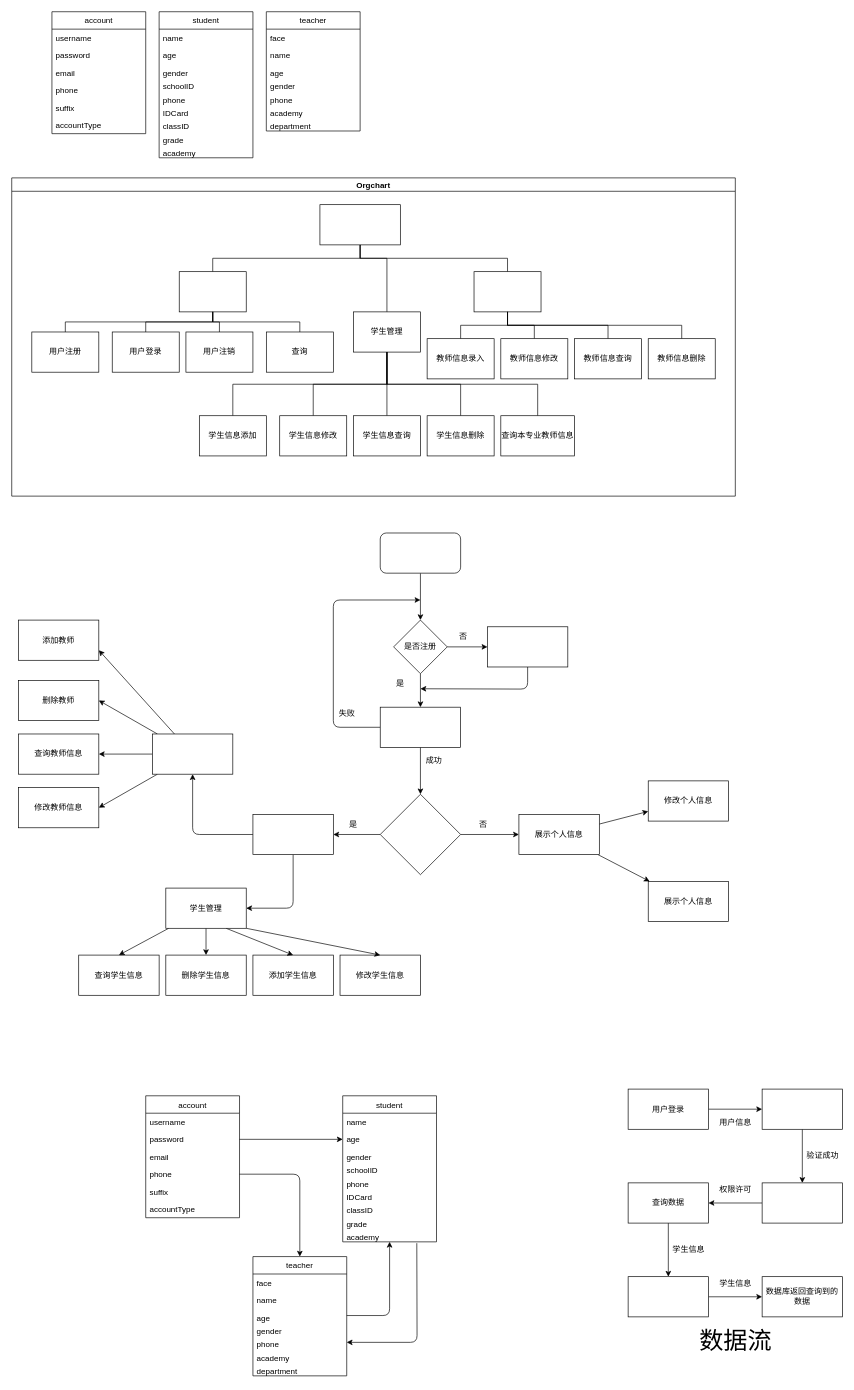
The diagram is 854 pixels wide and 1390 high, and some of its shapes have lost their labels. The shapes that lost their labels are listed below. From the top down, each one's centre as x and y in pixels, then its label:
point (359, 224): 学生信息管理系统
point (212, 291): 用户
point (507, 291): 教师信息
point (420, 552): 开始
point (527, 646): 注册
point (420, 727): 登录
point (192, 753): 教师管理
point (292, 834): 展示管理界面
point (420, 834): 用户是否是管理员
point (802, 1108): 查询账号
point (802, 1202): 成功进入管理界面
point (668, 1296): 服务器查询数据
